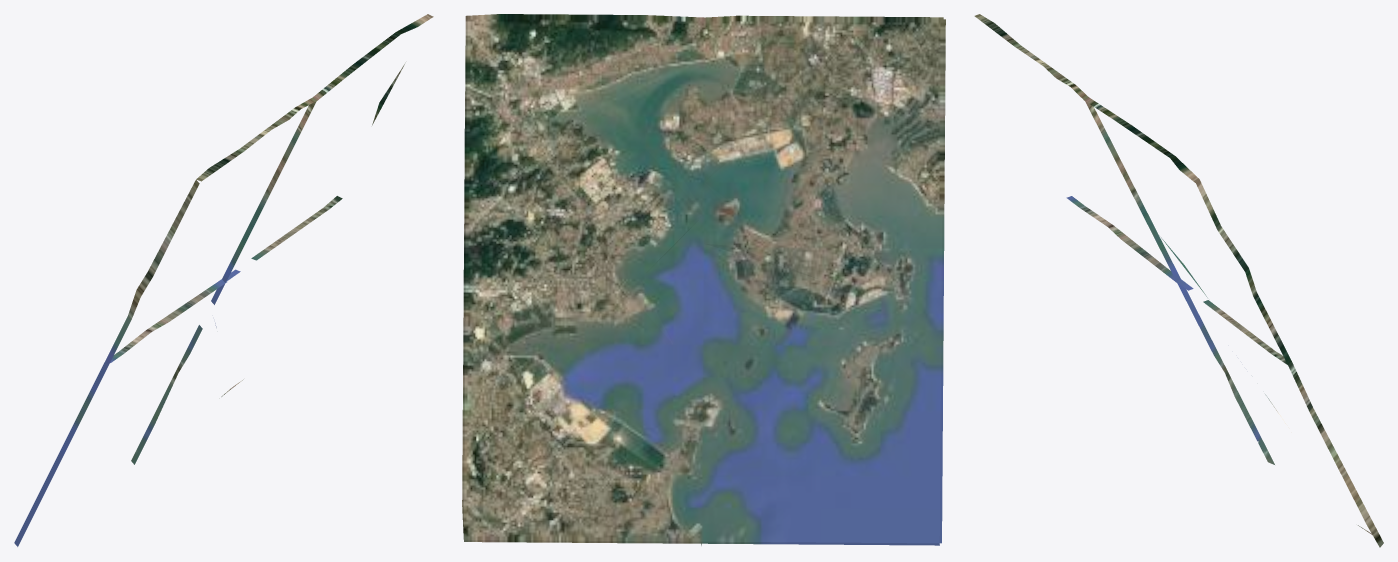
3 views of the same model, side by side, from view 1: azimuth 30°, elevation 25°; view 2: azimuth 150°, elevation 25°; view 3: azimuth 270°, elevation 25° (orthographic). The views are drawn at different scales.
Size of the model in its own units: 39479 by 36109 by 32396.
Materials: 1 (1 with a texture image).
